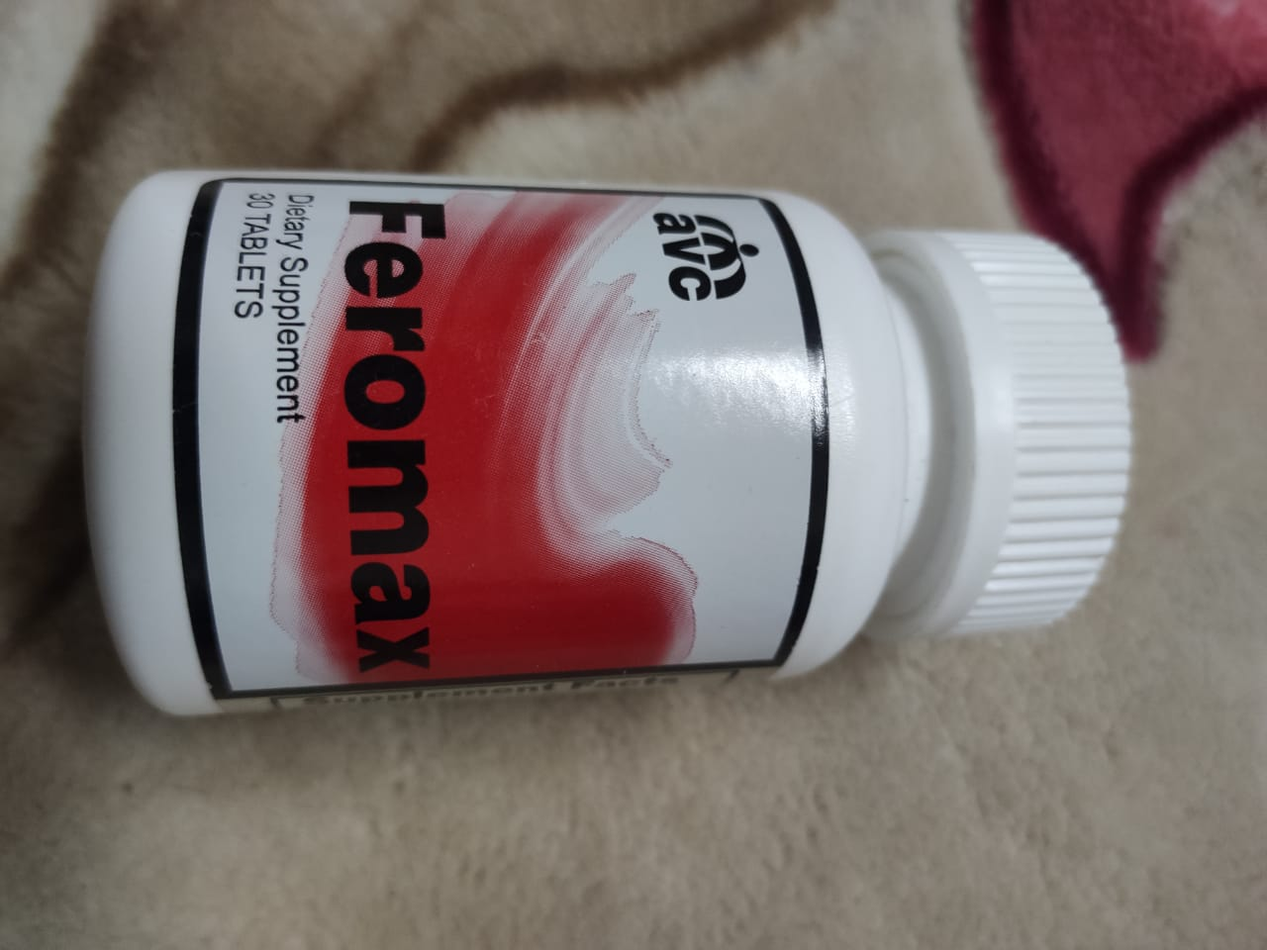Medicine: (77, 129, 1148, 752)
